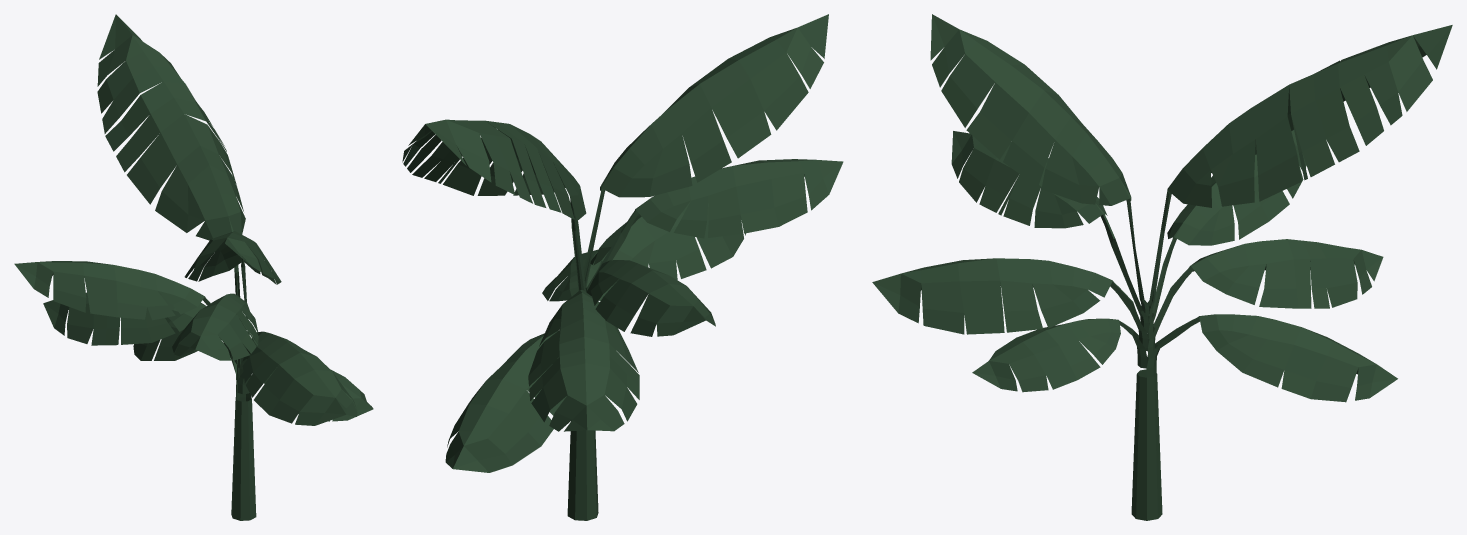
File: Bannana Tree.fbx
3 views of the same model, side by side, from view 1: azimuth 30°, elevation 25°; view 2: azimuth 150°, elevation 25°; view 3: azimuth 270°, elevation 25° (orthographic). The views are drawn at different scales.
Parts seen in each view (by area): view 1: Bannana Tree; view 2: Bannana Tree; view 3: Bannana Tree.
Boxes of the visible parts, box(x1,y1,x2,y2) form: Bannana Tree: box(14, 14, 373, 520); Bannana Tree: box(402, 14, 843, 520); Bannana Tree: box(872, 14, 1452, 520).
Bounding box in the file's own units: 1736 × 2892 × 3109.
